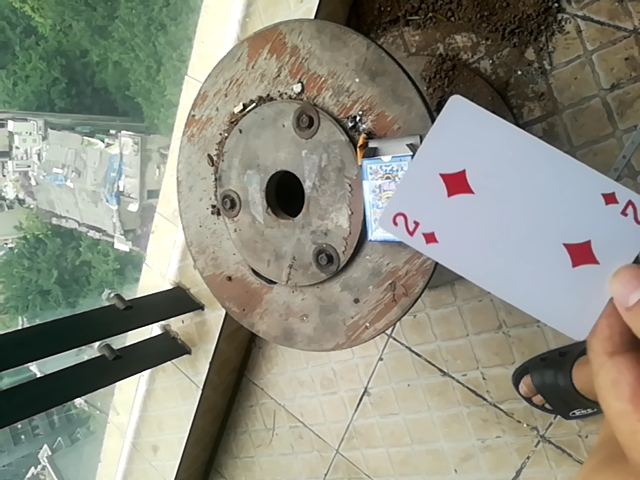fk 2: (365, 93, 639, 345)
